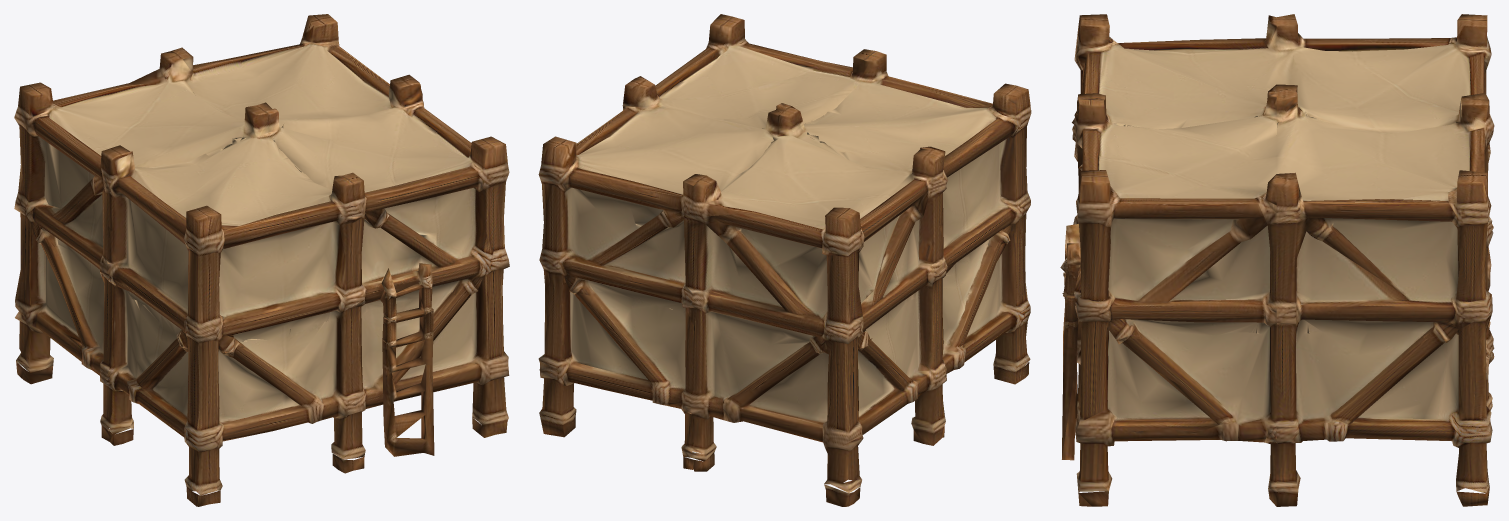
3 renders of one model, left to right at view 1: azimuth 30°, elevation 25°; view 2: azimuth 150°, elevation 25°; view 3: azimuth 270°, elevation 25°, orthographic. The views are drawn at different scales.
Parts seen in each view (by area): view 1: Construction enclosure; view 2: Construction enclosure; view 3: Construction enclosure.
Part boxes in pixels (x1,y1,x2,y2): Construction enclosure: (14,14,509,506); Construction enclosure: (538,14,1031,506); Construction enclosure: (1060,14,1494,506).
Size of the model in its own units: 0.9536 by 0.8501 by 1.
1 material, 1 textured.
